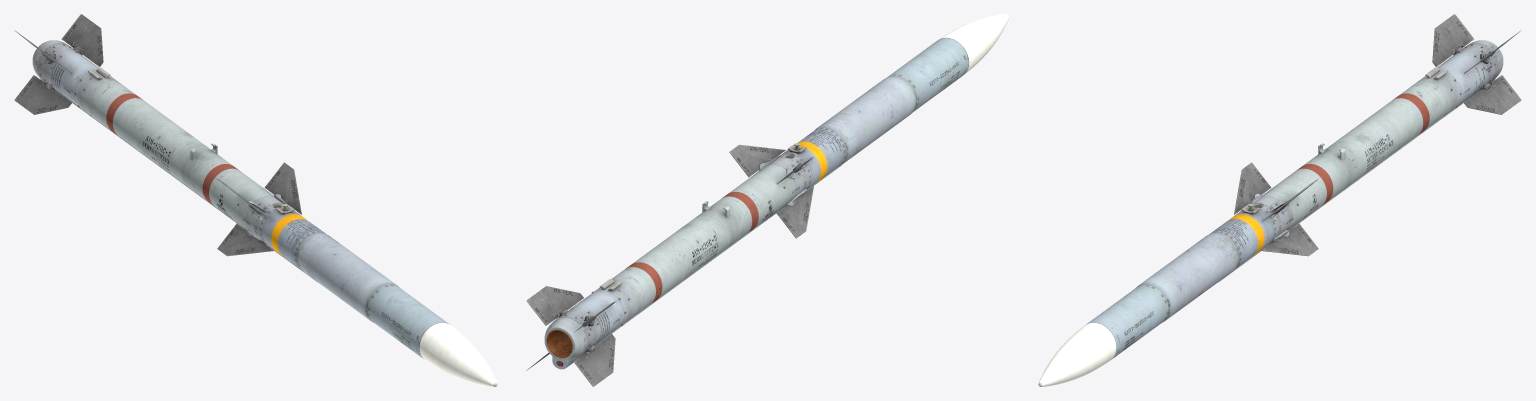
File: amraam.glb
3 renders of one model, left to right at view 1: azimuth 30°, elevation 25°; view 2: azimuth 150°, elevation 25°; view 3: azimuth 330°, elevation 25°, orthographic.
Parts seen in each view (by area): view 1: Object_2; view 2: Object_2; view 3: Object_2.
Part boxes in pixels (x1,y1,x2,y2): Object_2: (14, 14, 497, 386); Object_2: (526, 14, 1009, 386); Object_2: (1038, 14, 1521, 386).
Size of the model in its own units: 0.3171 by 0.3171 by 3.65.
Materials: 1 (1 with a texture image).
